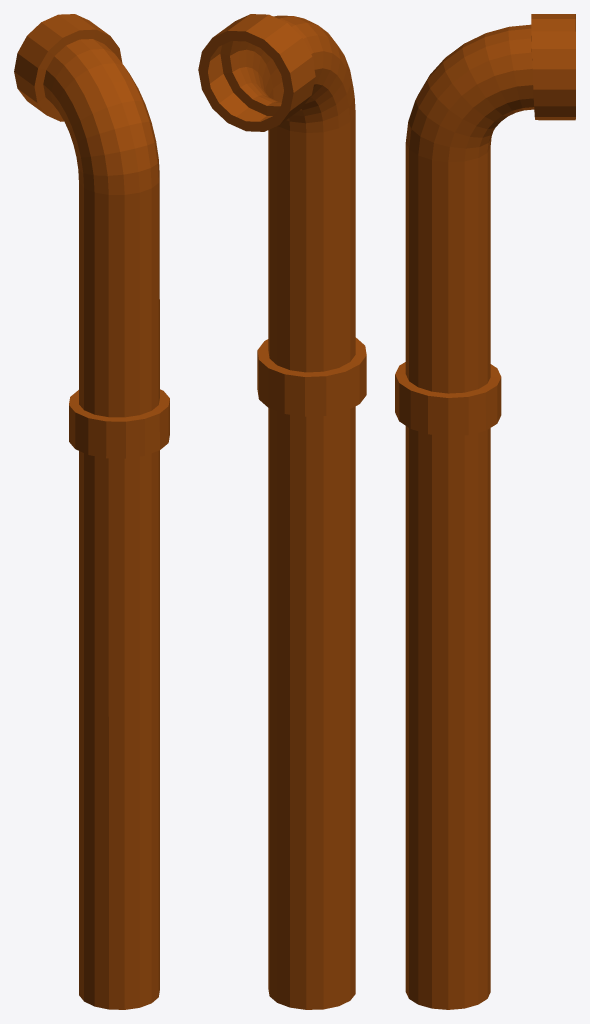
The model's file is Pipe8.fbx.
3 renders of one model, left to right at view 1: azimuth 30°, elevation 25°; view 2: azimuth 150°, elevation 25°; view 3: azimuth 270°, elevation 25°, orthographic. The views are drawn at different scales.
Visible parts, largest first — view 1: Plane; view 2: Plane; view 3: Plane.
Boxes of the visible parts, x1,y1,x2,y2 form: Plane: (14, 14, 169, 1009); Plane: (198, 14, 366, 1009); Plane: (395, 14, 575, 1009).
Bounding box in the file's own units: 125 × 1262 × 212.
